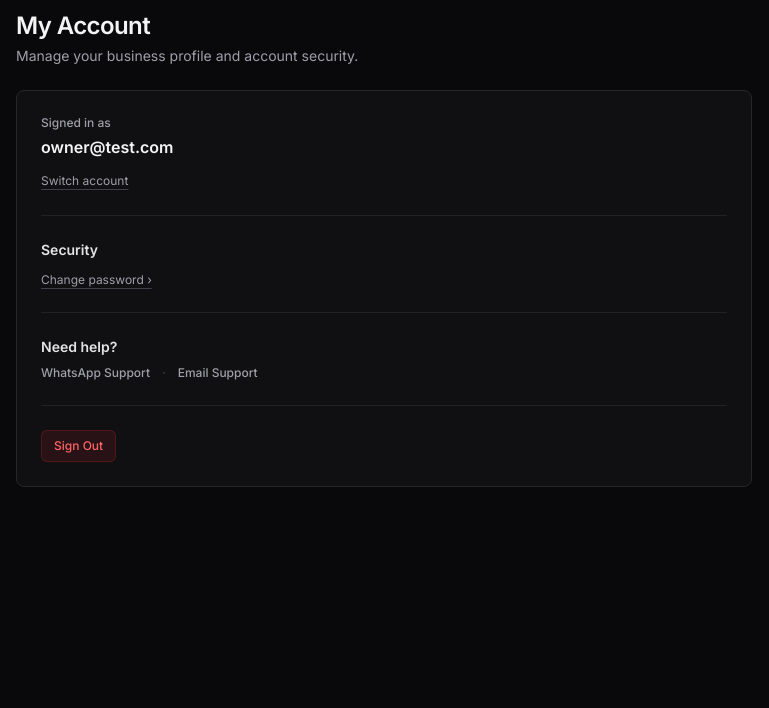
Test: Account Page UX › password form hidden by default and expands on click
Check: the text "owner@test.com" is shown, box x1=41 y1=137 x2=174 y2=157
Check: the text "Save Password" is not shown
Click the button "Change password ›" at [96, 280], box x1=41 y1=272 x2=152 y2=288
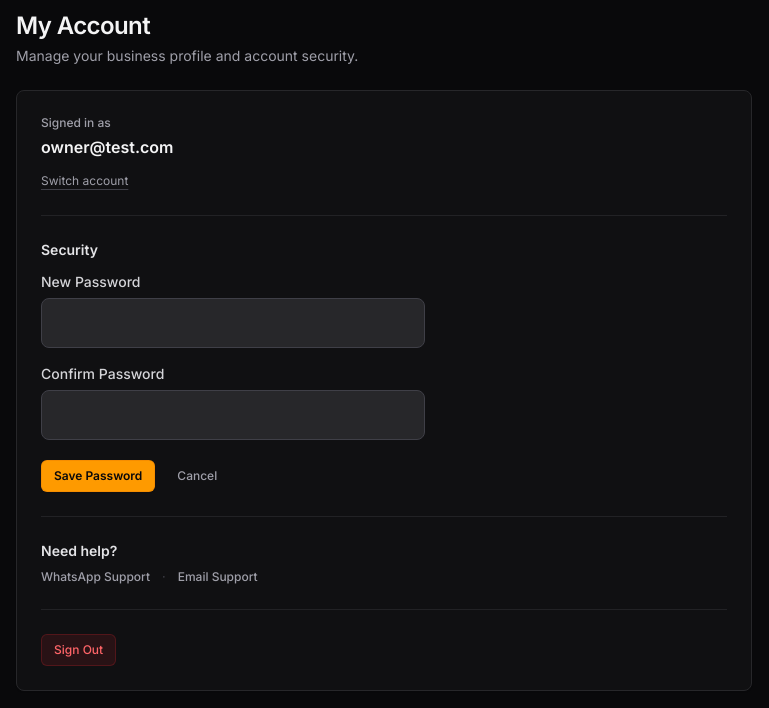
Check: the button "Save Password" is shown, box x1=41 y1=460 x2=155 y2=492
Click the button "Cancel" at [197, 476], box x1=165 y1=460 x2=229 y2=492
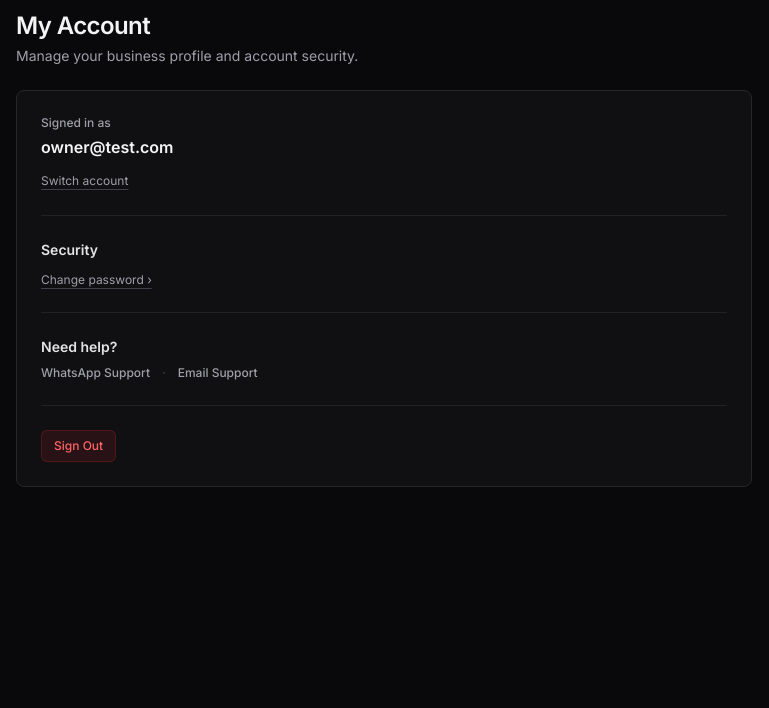
Check: the button "Save Password" is gone
